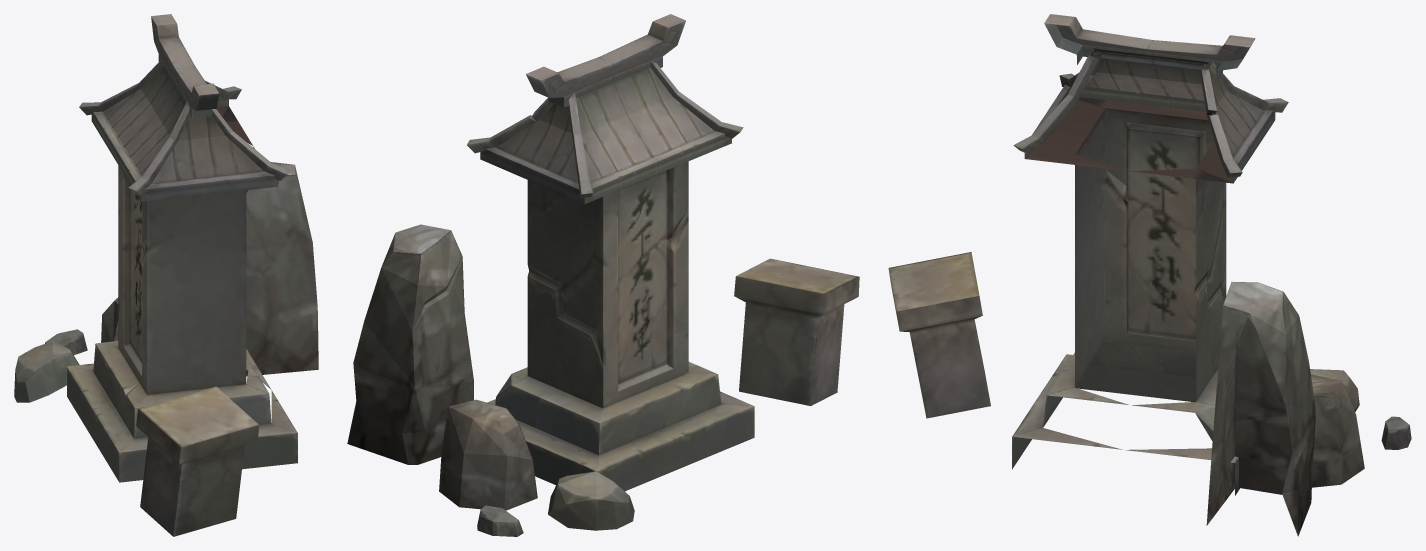
File: Area_03_9.fbx
The picture shows the model from 3 angles, left to right: view 1: azimuth 30°, elevation 25°; view 2: azimuth 150°, elevation 25°; view 3: azimuth 270°, elevation 25°; orthographic projection. The views are drawn at different scales.
Parts seen in each view (by area): view 1: Area_03_9; view 2: Area_03_9; view 3: Area_03_9.
Boxes of the visible parts, box(x1,y1,x2,y2) form: Area_03_9: box(14, 14, 318, 536); Area_03_9: box(347, 14, 859, 536); Area_03_9: box(888, 14, 1411, 536).
Size of the model in its own units: 1187 by 1394 by 1587.
